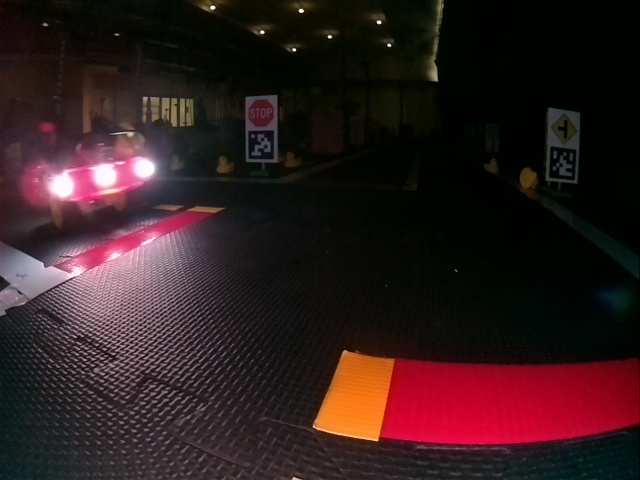Duckie: (519, 168, 538, 189), (217, 156, 232, 173), (283, 153, 300, 167), (484, 159, 497, 172)
Duckiebot: (18, 137, 152, 228)
Intersection sign: (549, 111, 579, 143)
QR code: (547, 145, 577, 181), (246, 129, 274, 157)
Stop sign: (246, 99, 274, 127)
